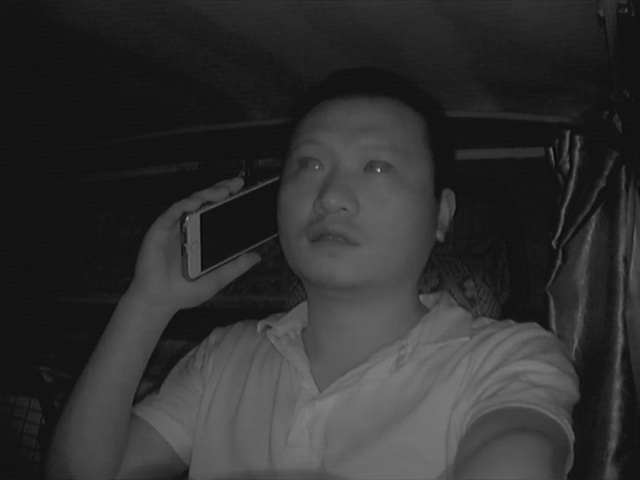hand: (134, 178, 252, 310)
